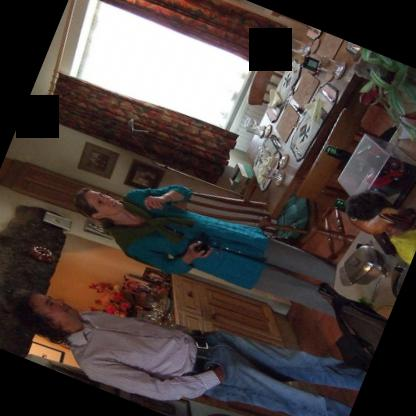handbag: (314, 281, 388, 352), (334, 292, 379, 372)
